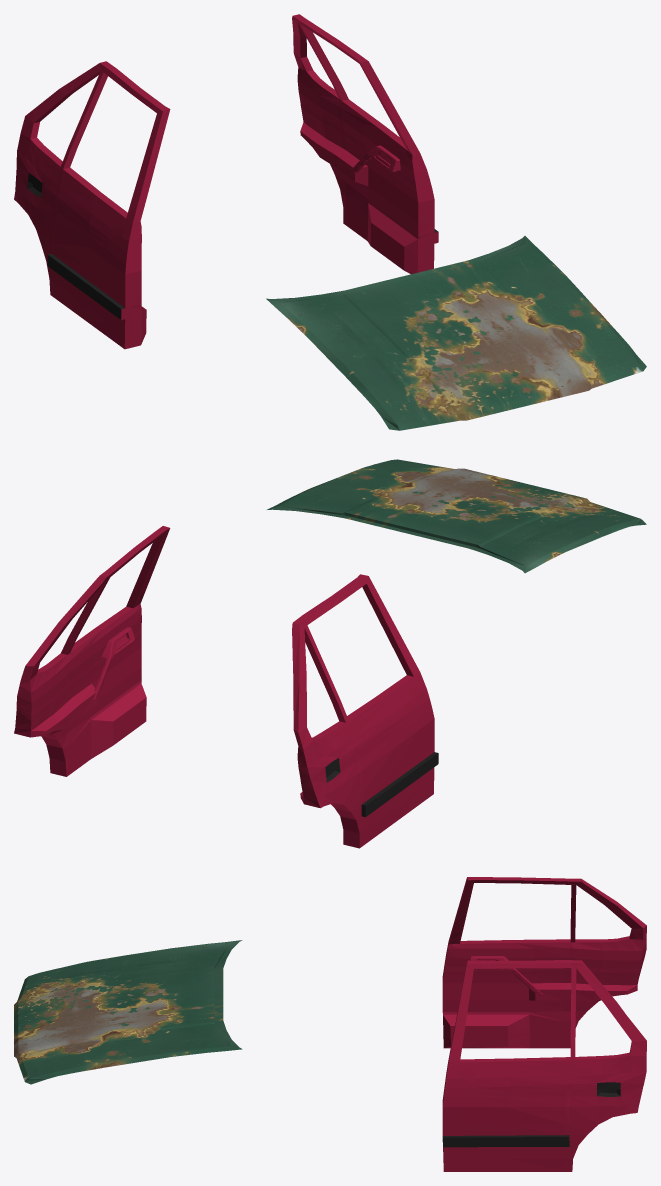
The picture shows the model from 3 angles, top to bottom: view 1: azimuth 30°, elevation 25°; view 2: azimuth 150°, elevation 25°; view 3: azimuth 270°, elevation 25°; orthographic projection. The views are drawn at different scales.
Visible parts, largest first — view 1: mesh_g8; view 2: mesh_g8; view 3: mesh_g8.
Boxes of the visible parts, x1,y1,x2,y2 form: mesh_g8: (14,14,646,430); mesh_g8: (14,459,646,848); mesh_g8: (14,877,646,1171).
Bounding box in the file's own units: 1.54 × 0.9974 × 3.07.
1 material, 1 textured.
